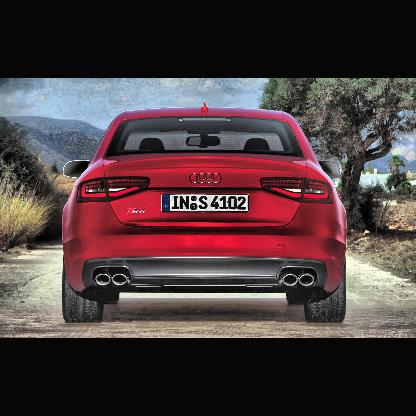Audi S4 Sedan 2012: (64, 101, 348, 323)
